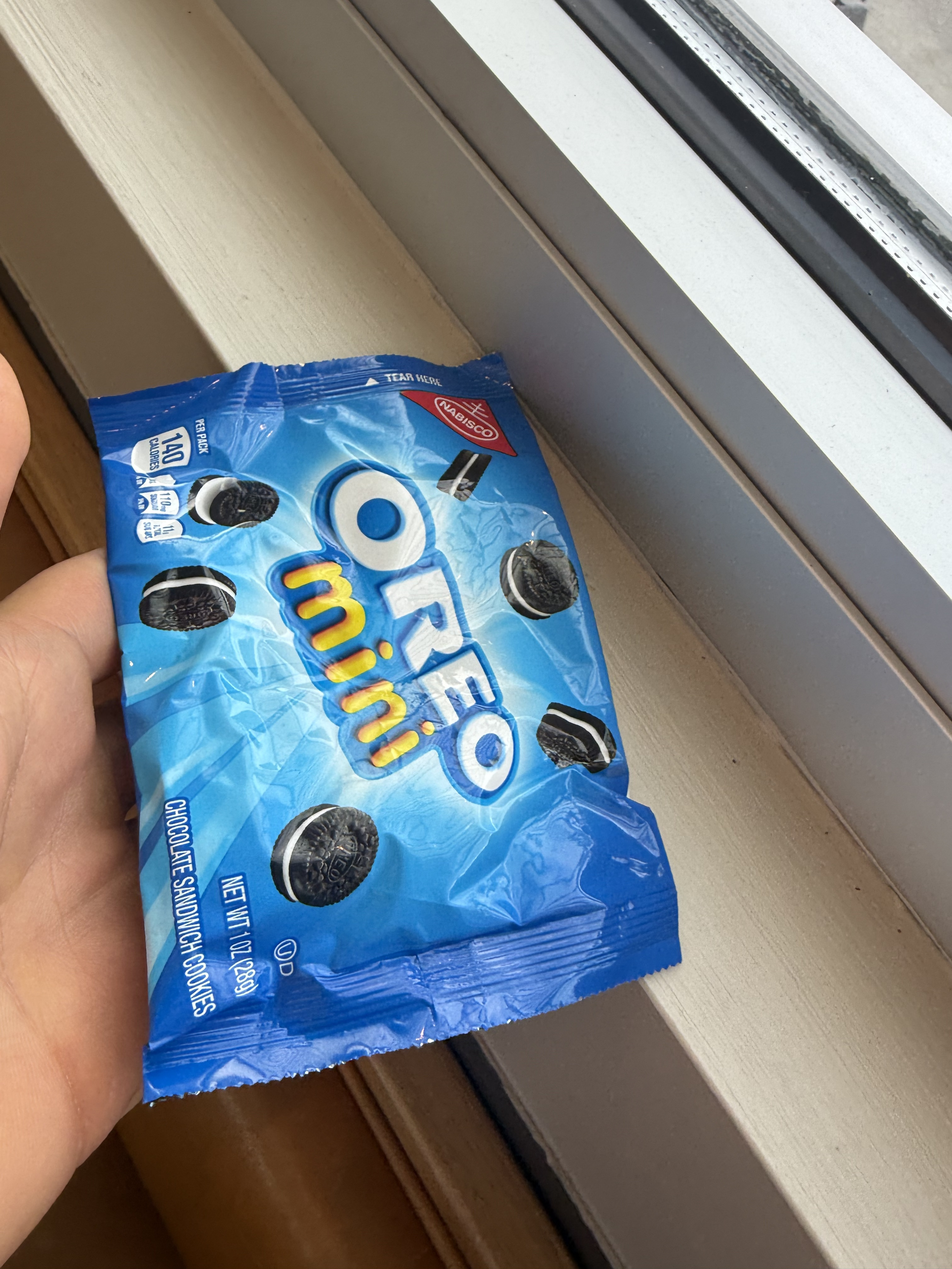oreo_mini: (94, 385, 689, 1041)
